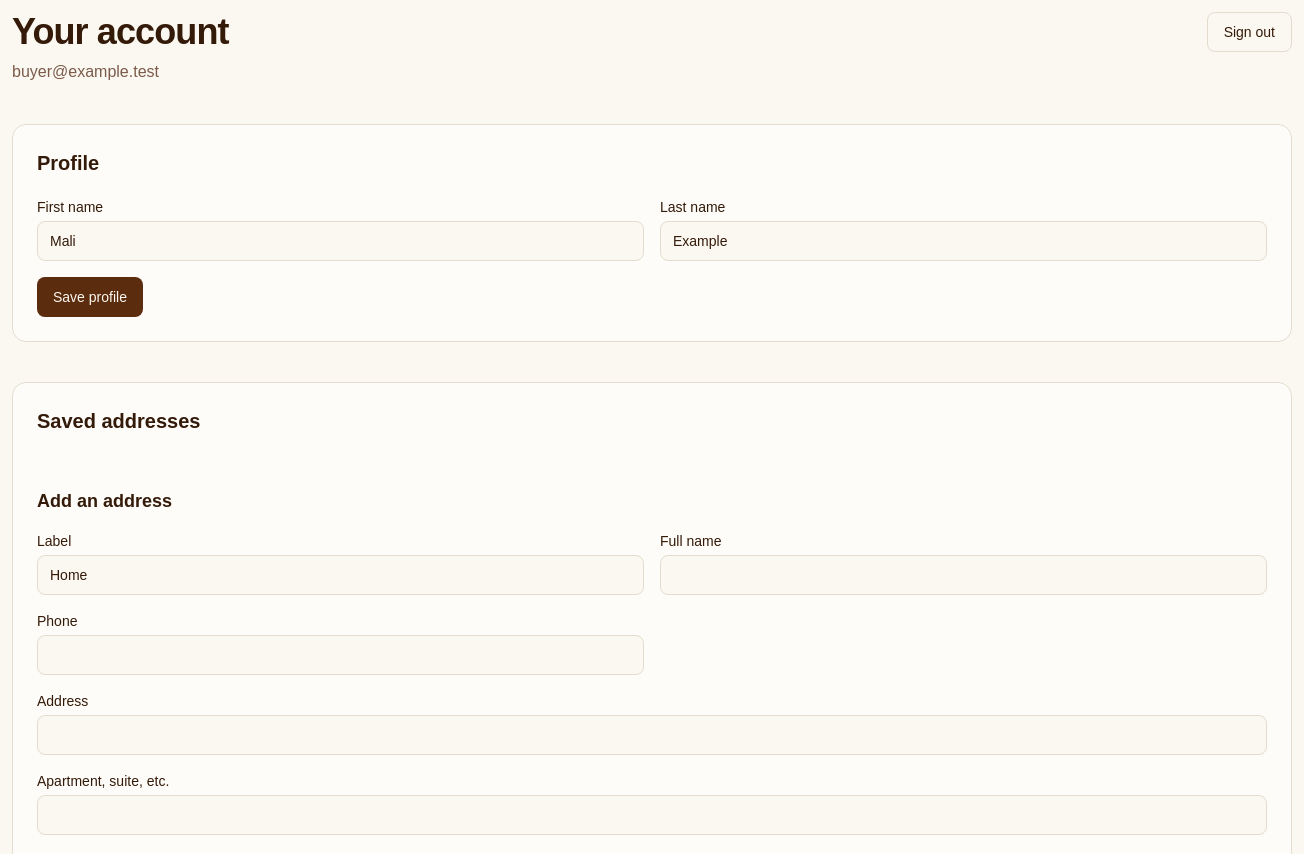
Test: AccountDashboard › loads owned orders and updates the customer profile
Expected: the text "buyer@example.test" is shown, top-left (12, 63), bottom-right (159, 80)
Step 1. Replace the text in the field labelled "Last name" with "Customer" → (964, 241), box top-left (660, 221), bottom-right (1267, 261)
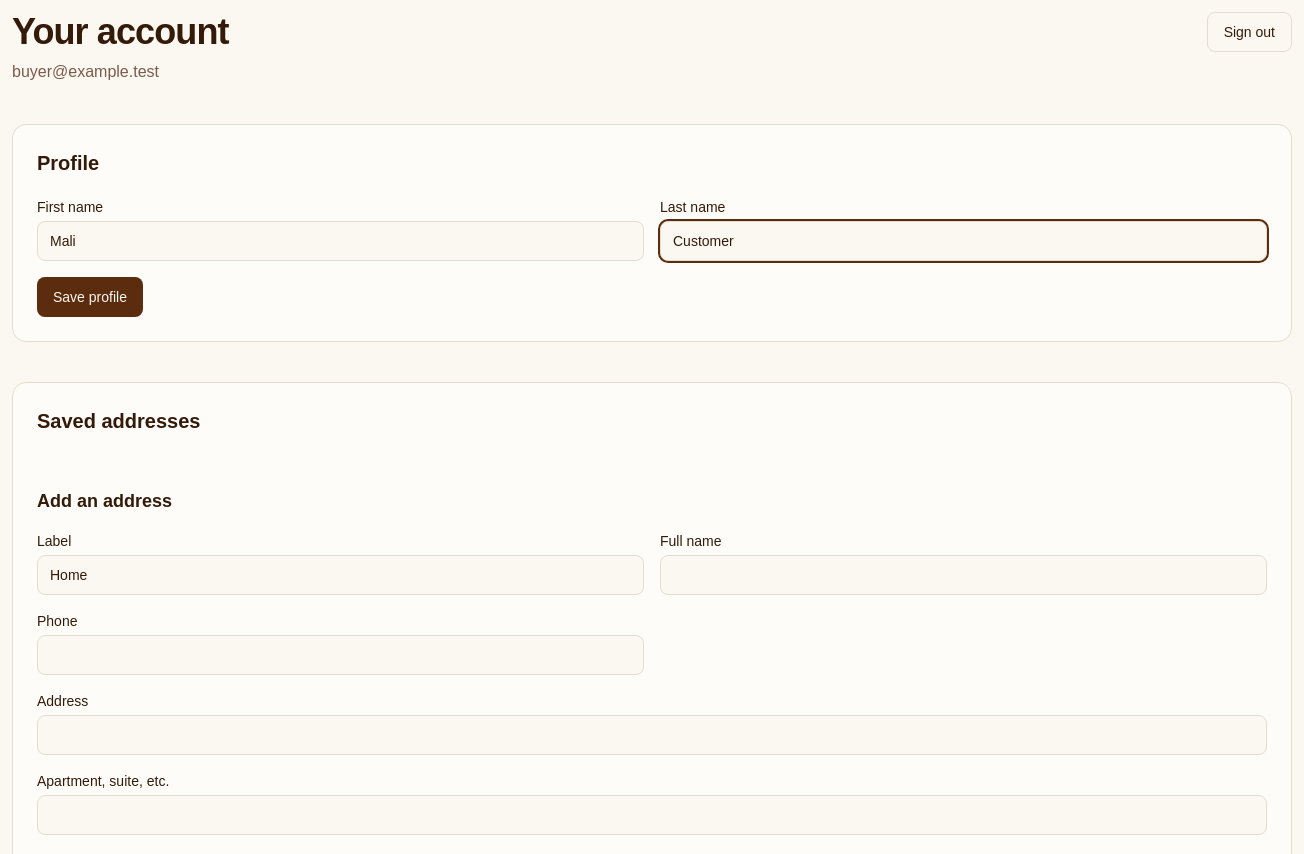
Step 2. Click the button "Save profile" → (90, 297), box top-left (37, 277), bottom-right (143, 317)
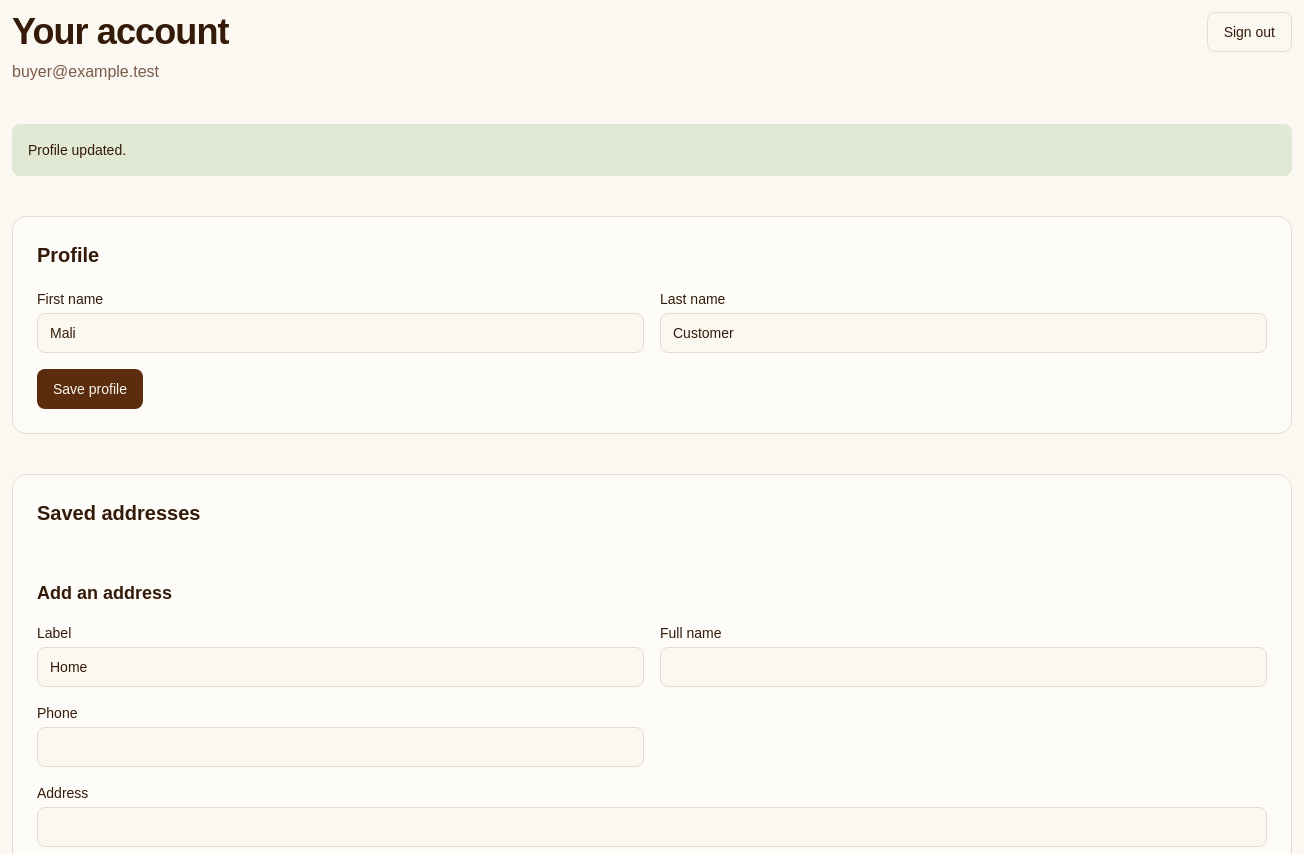
Expected: the message shows "Profile updated", top-left (28, 142), bottom-right (126, 158)
